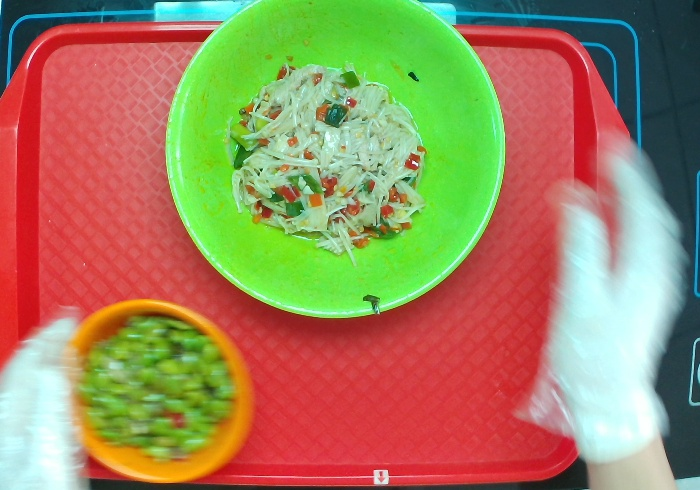YKMZ-Ju_Se_Yuan_Wan: (56, 295, 260, 485)
YKMZ-Lv_Se_Tang_Wan: (157, 1, 512, 328)
